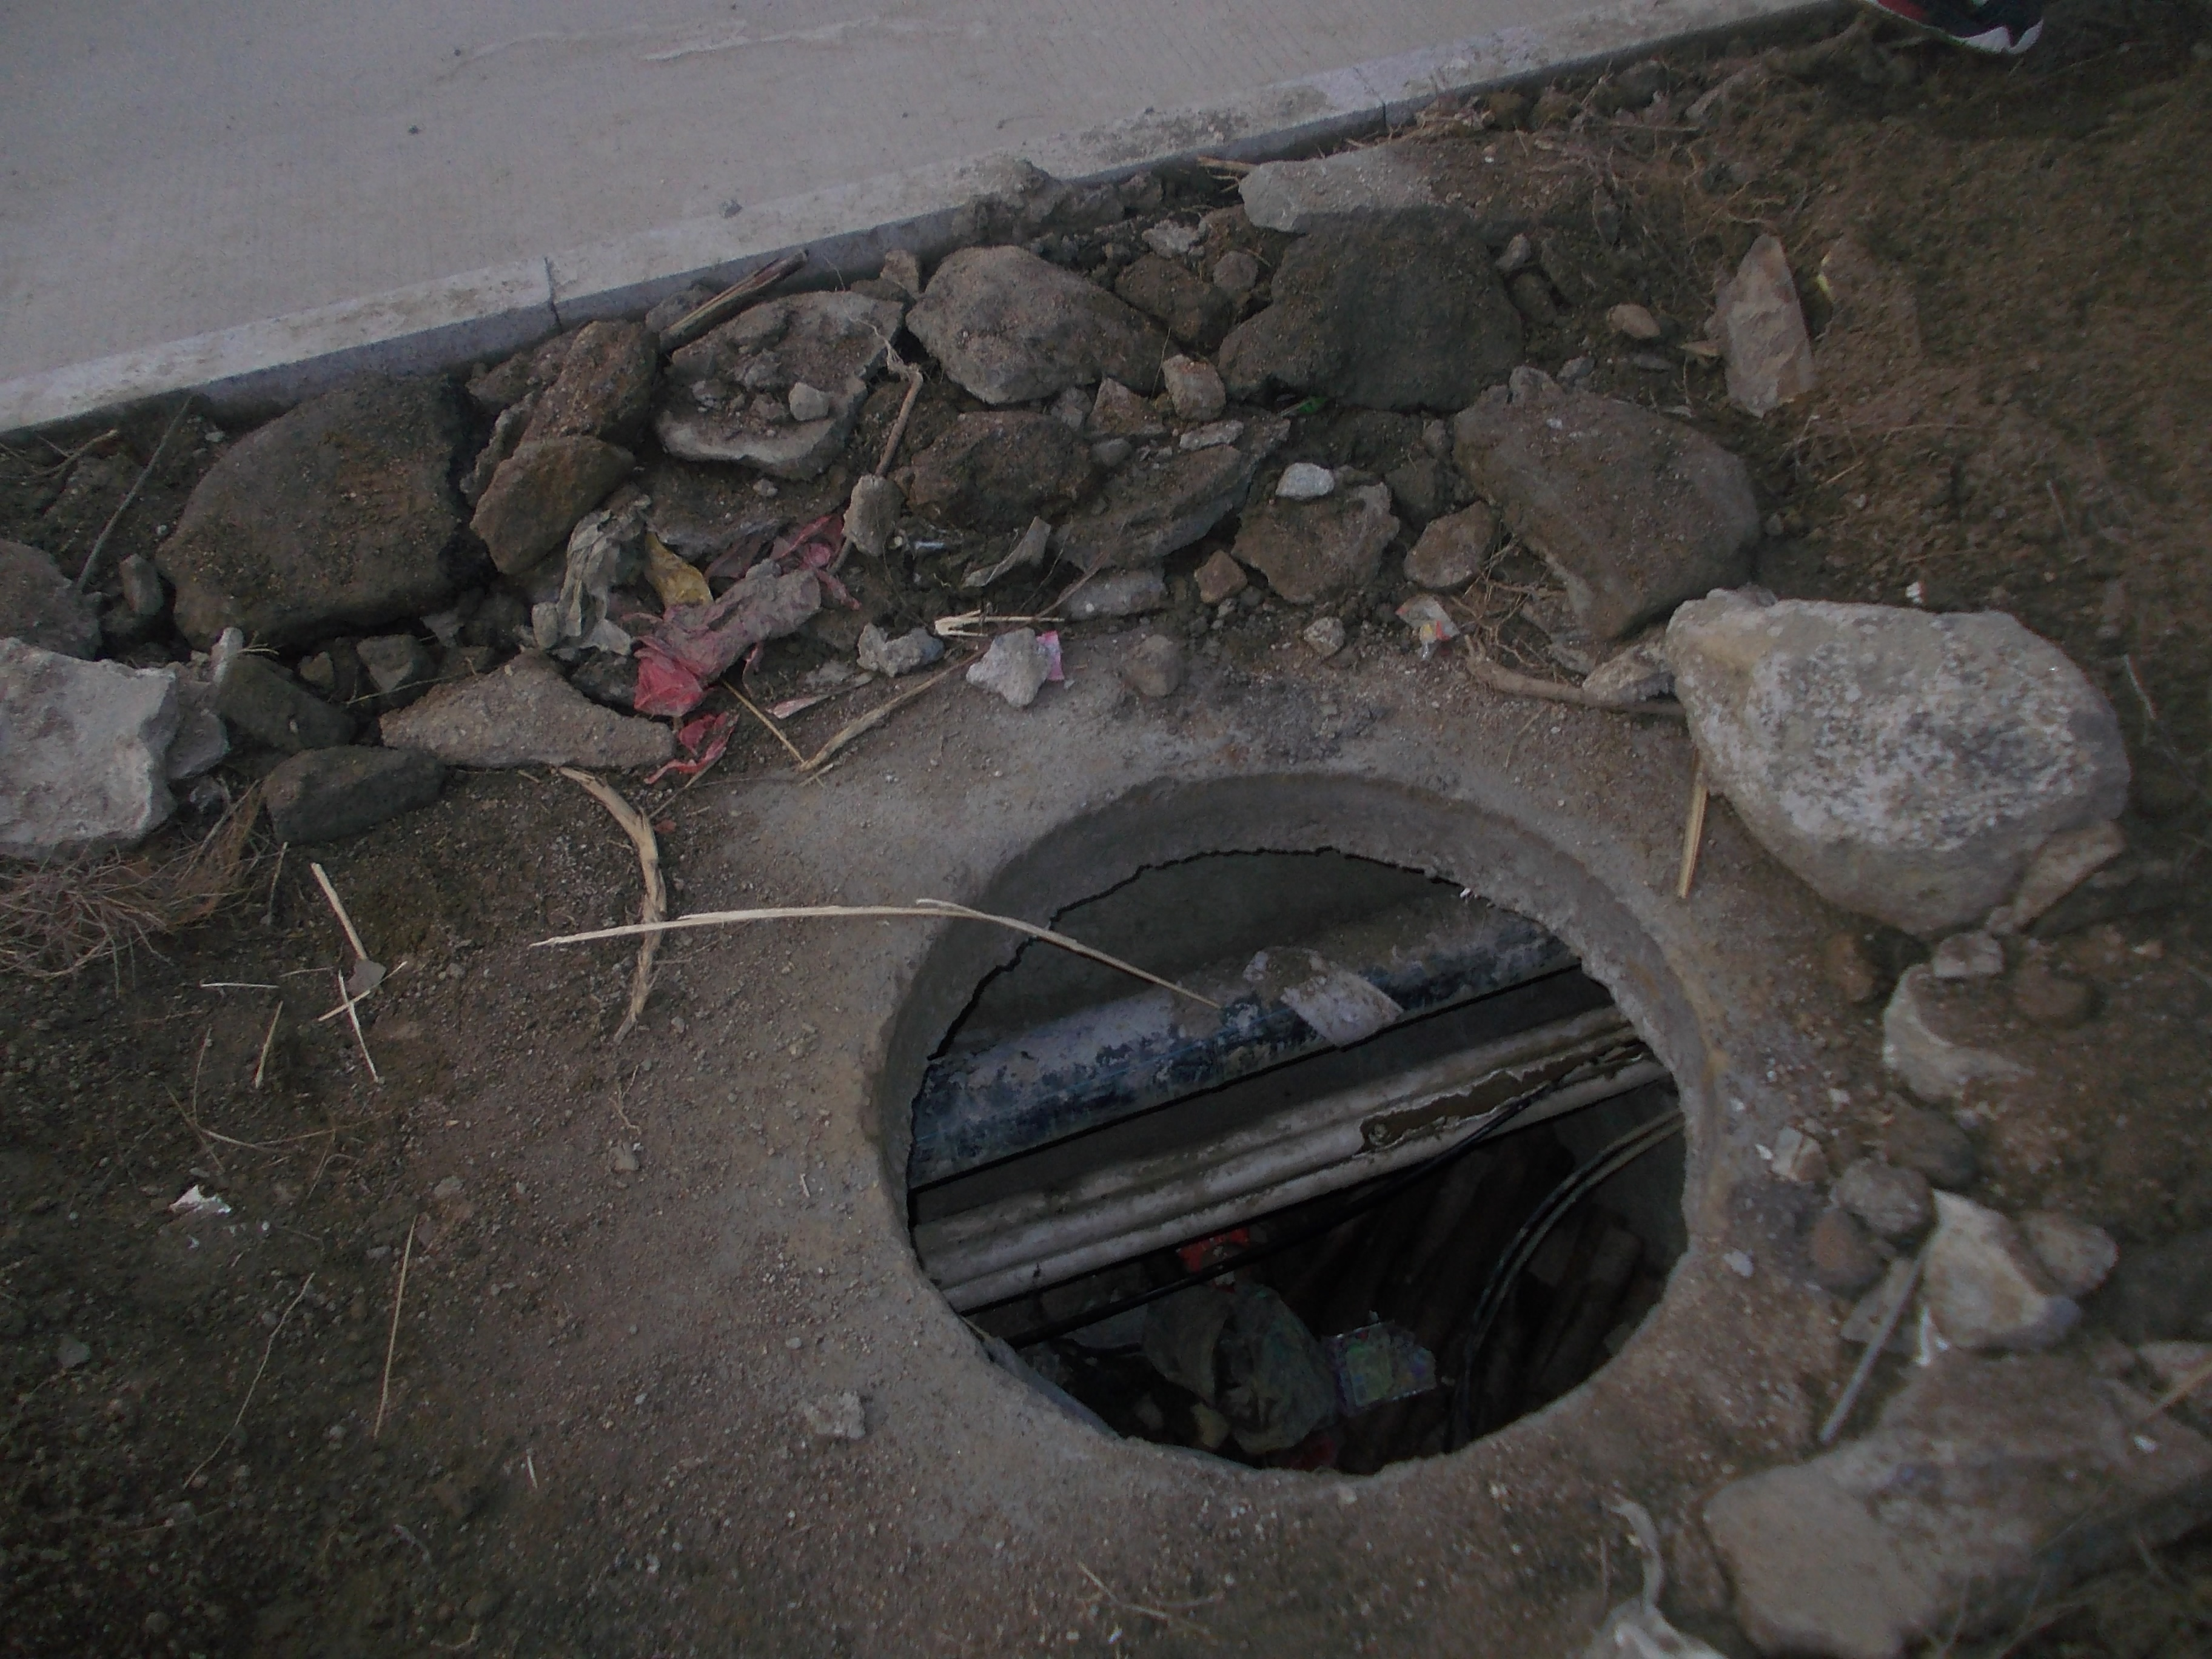lose: (855, 763, 1730, 1497)
